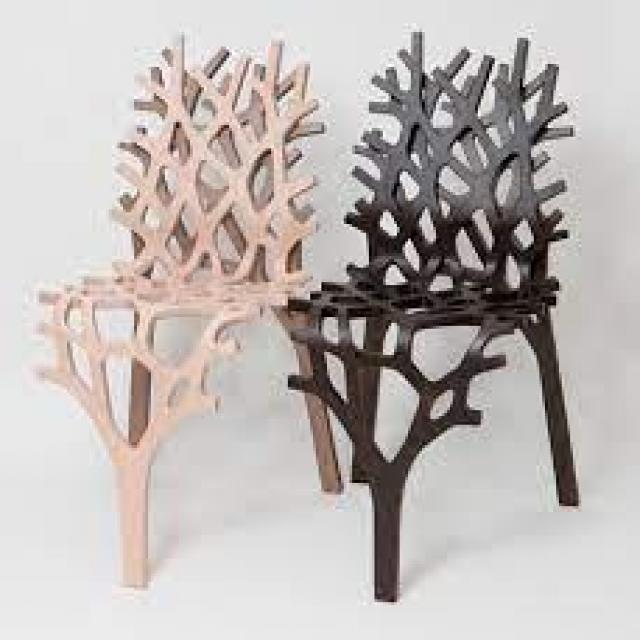chair: (22, 23, 601, 585)
